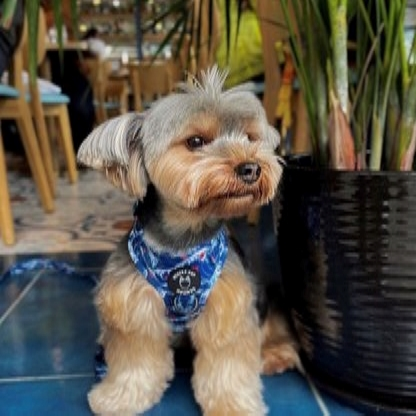yorkshire: (68, 67, 291, 416)
